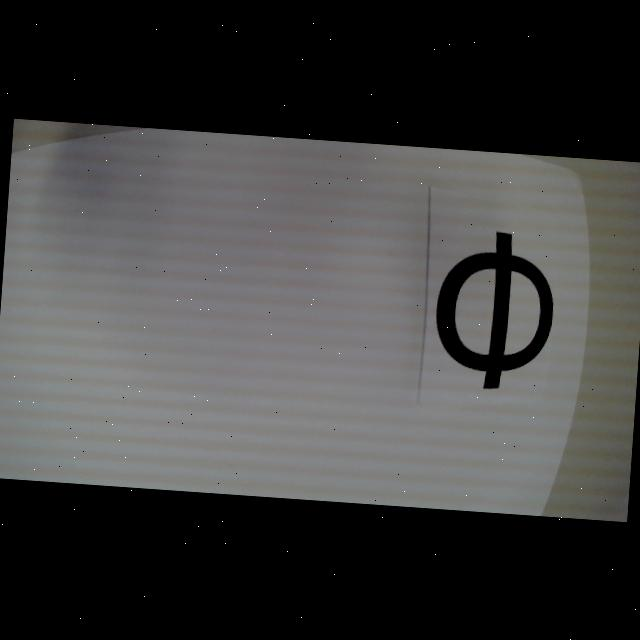PHI: (430, 225, 560, 392)
